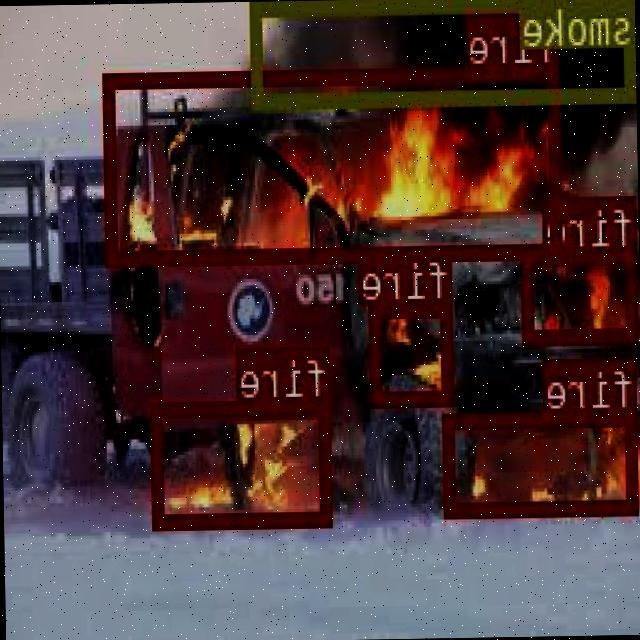fire: (106, 61, 563, 262), (154, 399, 334, 525), (446, 408, 639, 514), (522, 246, 640, 341), (372, 299, 455, 404)
smoke: (253, 0, 636, 107)
